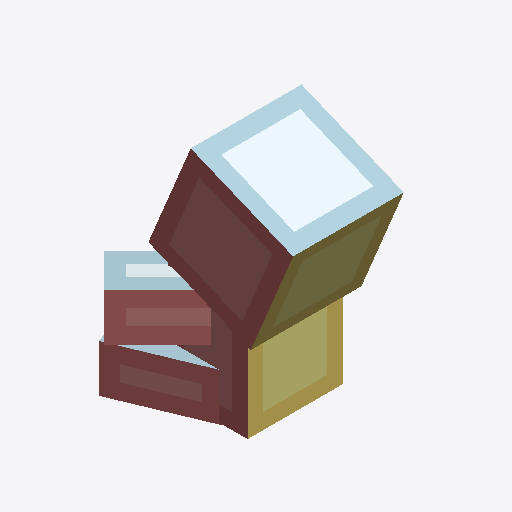
Isometric view (azimuth 45°, elevation 35.3°) of a Minecraft model made of 12 cuboids, textured from the same repository.
Visible parts, largest first — element 1, element 3, element 7, element 11.
Part boxes in pixels (x1,y1,x2,y2): element 1: (149,84,403,349); element 3: (168,263,342,438); element 7: (104,251,210,344); element 11: (99,335,221,424).
Bounding box in the file's own units: 13.29 × 15.18 × 12.21.